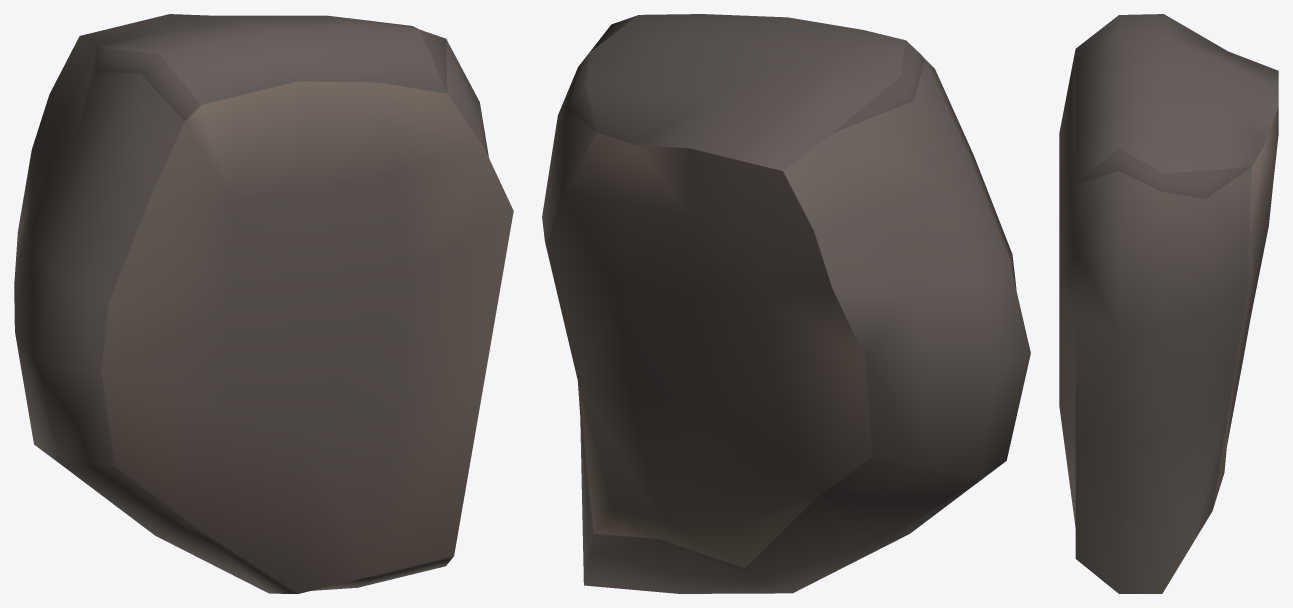
File: RockSmall.005.glb
The picture shows the model from 3 angles, left to right: view 1: azimuth 30°, elevation 25°; view 2: azimuth 150°, elevation 25°; view 3: azimuth 270°, elevation 25°; orthographic projection. The views are drawn at different scales.
Parts seen in each view (by area): view 1: RockSmall.005; view 2: RockSmall.005; view 3: RockSmall.005.
Boxes of the visible parts, x1,y1,x2,y2 form: RockSmall.005: [14, 14, 513, 593]; RockSmall.005: [542, 14, 1030, 593]; RockSmall.005: [1059, 14, 1278, 593].
Bounding box in the file's own units: 155 × 187 × 79.77.
